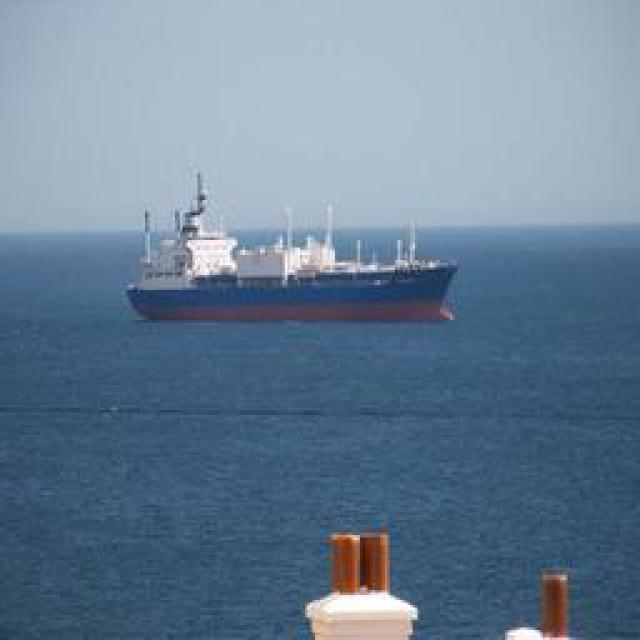Ship: (121, 193, 459, 328)
